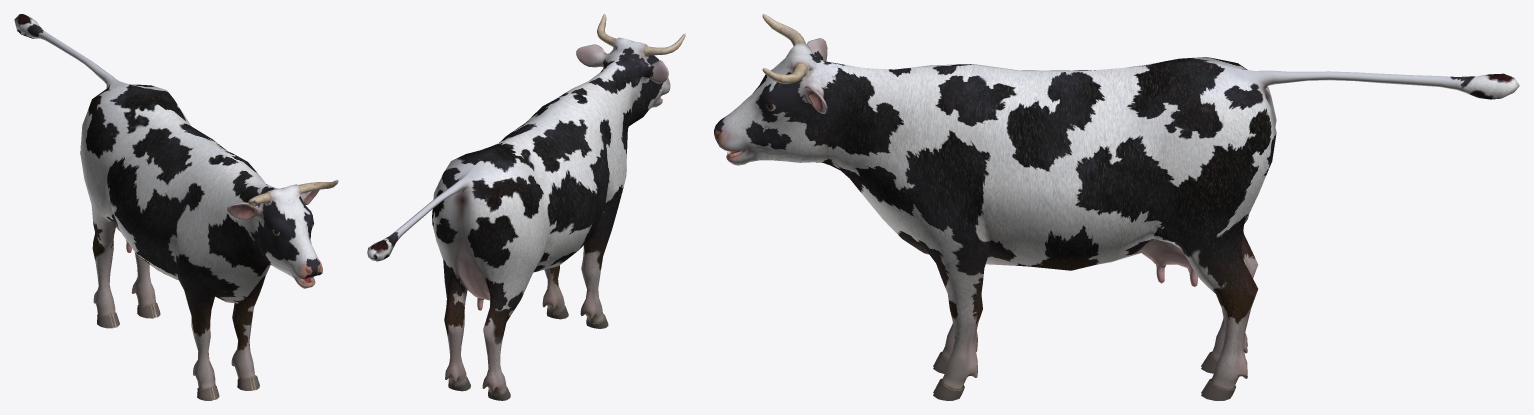
File: vaca.glb
3 views of the same model, side by side, from view 1: azimuth 30°, elevation 25°; view 2: azimuth 150°, elevation 25°; view 3: azimuth 270°, elevation 25° (orthographic). The views are drawn at different scales.
Parts seen in each view (by area): view 1: SK_Cow; view 2: SK_Cow; view 3: SK_Cow.
Part boxes in pixels (<box>): SK_Cow: <box>14,14,338,400</box>; SK_Cow: <box>367,14,685,400</box>; SK_Cow: <box>714,14,1519,400</box>.
Bounding box in the file's own units: 0.816 × 1.68 × 3.59.
1 material, 1 textured.
